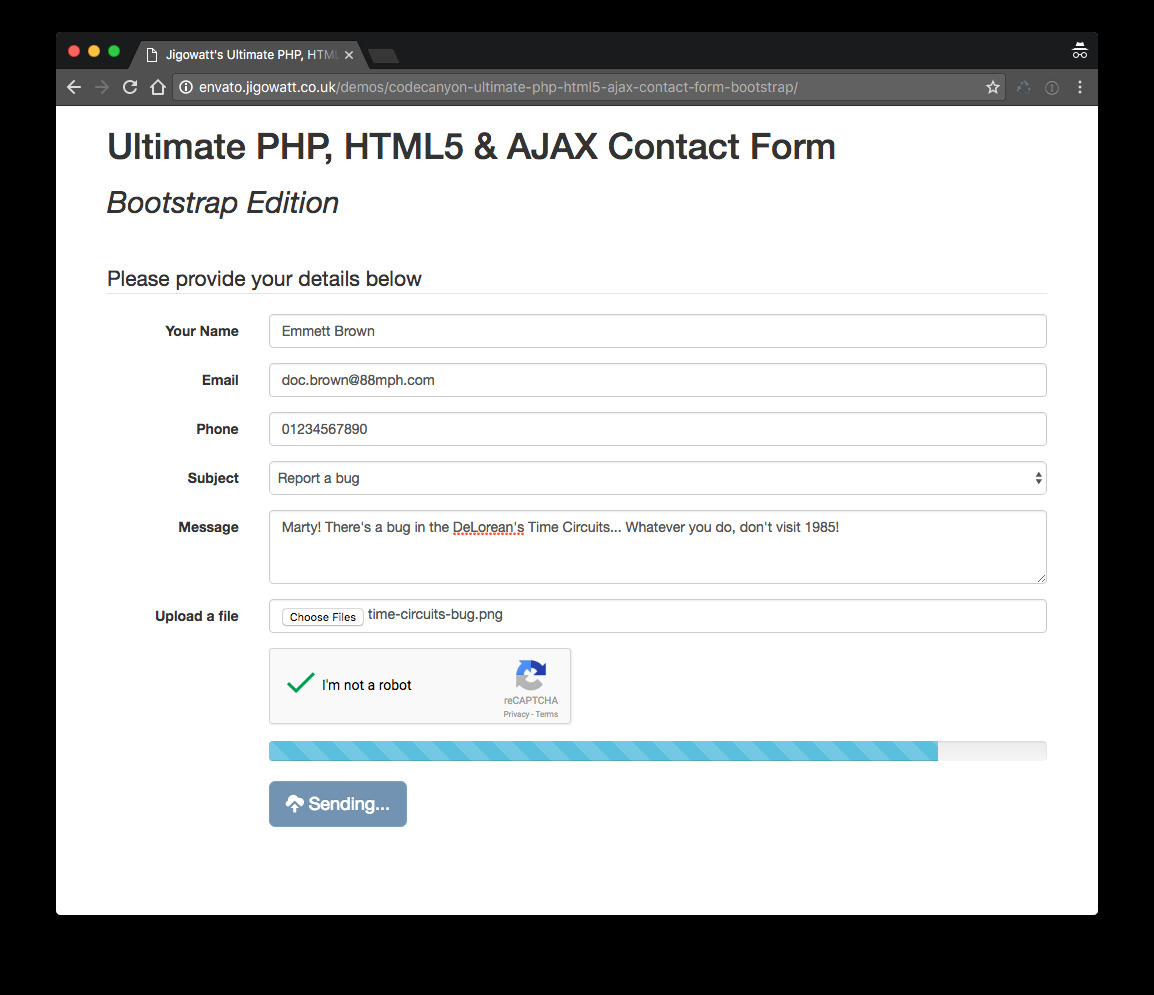_form_: (156, 303, 1060, 649), (238, 731, 465, 880)
button: (268, 779, 410, 827), (278, 605, 368, 628)
field: (265, 507, 1049, 585), (267, 313, 1049, 350), (268, 459, 1050, 496), (265, 363, 1050, 399), (265, 410, 1047, 446)
field_with_label: (178, 504, 1052, 587), (165, 308, 1052, 352), (187, 456, 1053, 499), (203, 360, 1052, 401), (195, 408, 1051, 447)
